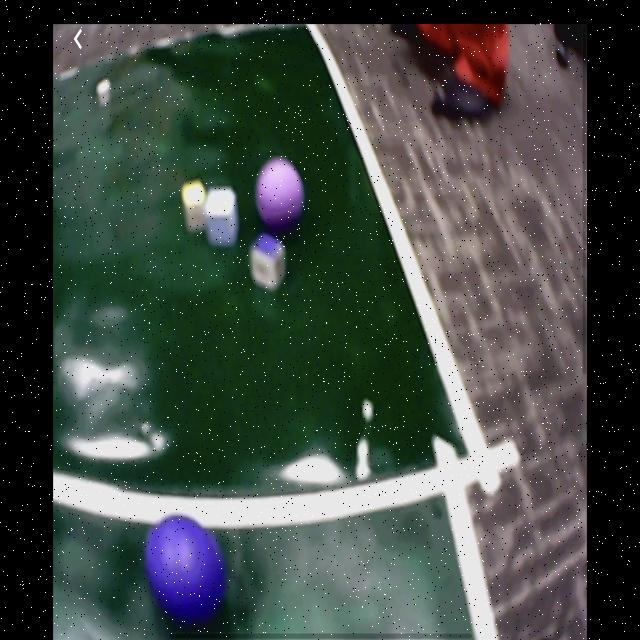ball: (146, 514, 228, 627), (257, 159, 304, 231)
